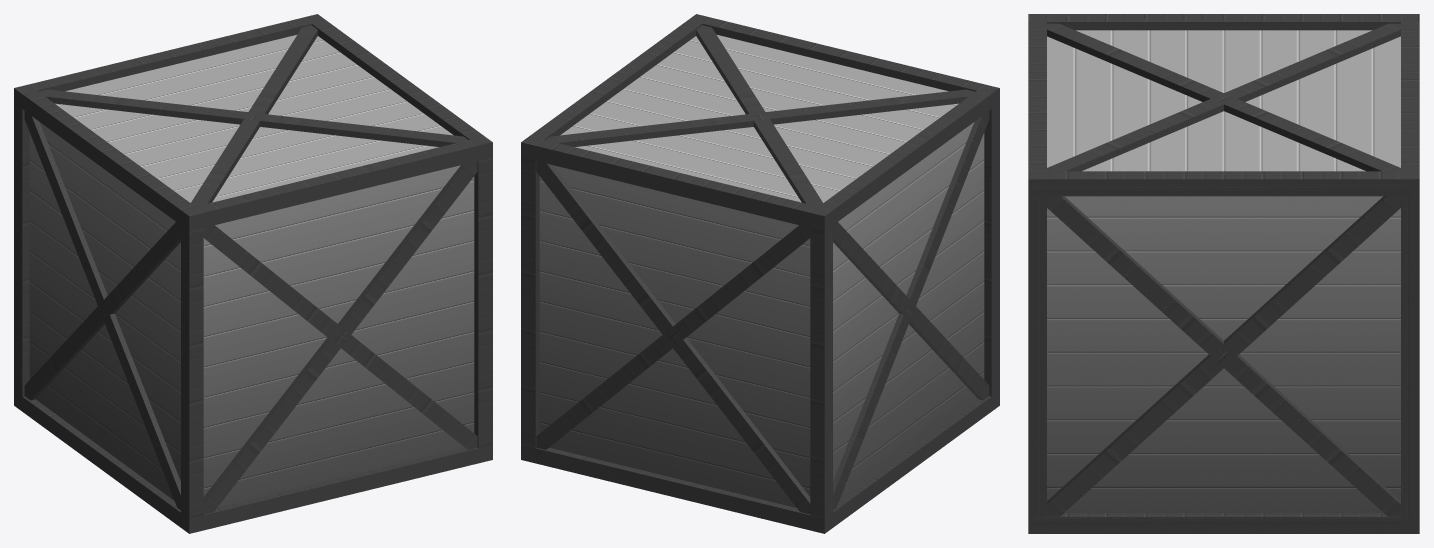
The model's file is Container.fbx.
The picture shows the model from 3 angles, left to right: view 1: azimuth 30°, elevation 25°; view 2: azimuth 150°, elevation 25°; view 3: azimuth 270°, elevation 25°; orthographic projection. The views are drawn at different scales.
Visible parts, largest first — view 1: mqo_mesh; view 2: mqo_mesh; view 3: mqo_mesh.
Boxes of the visible parts, x1=… form: mqo_mesh: x1=14, y1=14, x2=492, y2=533; mqo_mesh: x1=521, y1=14, x2=999, y2=533; mqo_mesh: x1=1028, y1=14, x2=1419, y2=533.
Bounding box in the file's own units: 210 × 210 × 210.
